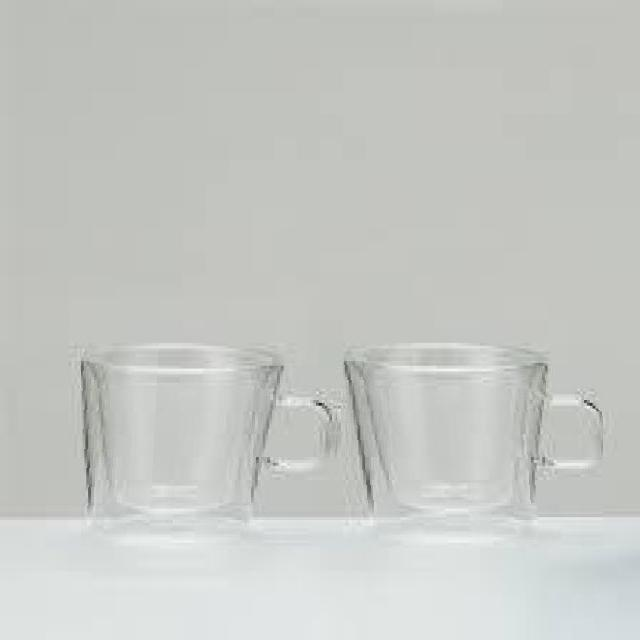Glass: (340, 342, 603, 548), (81, 342, 342, 546)
